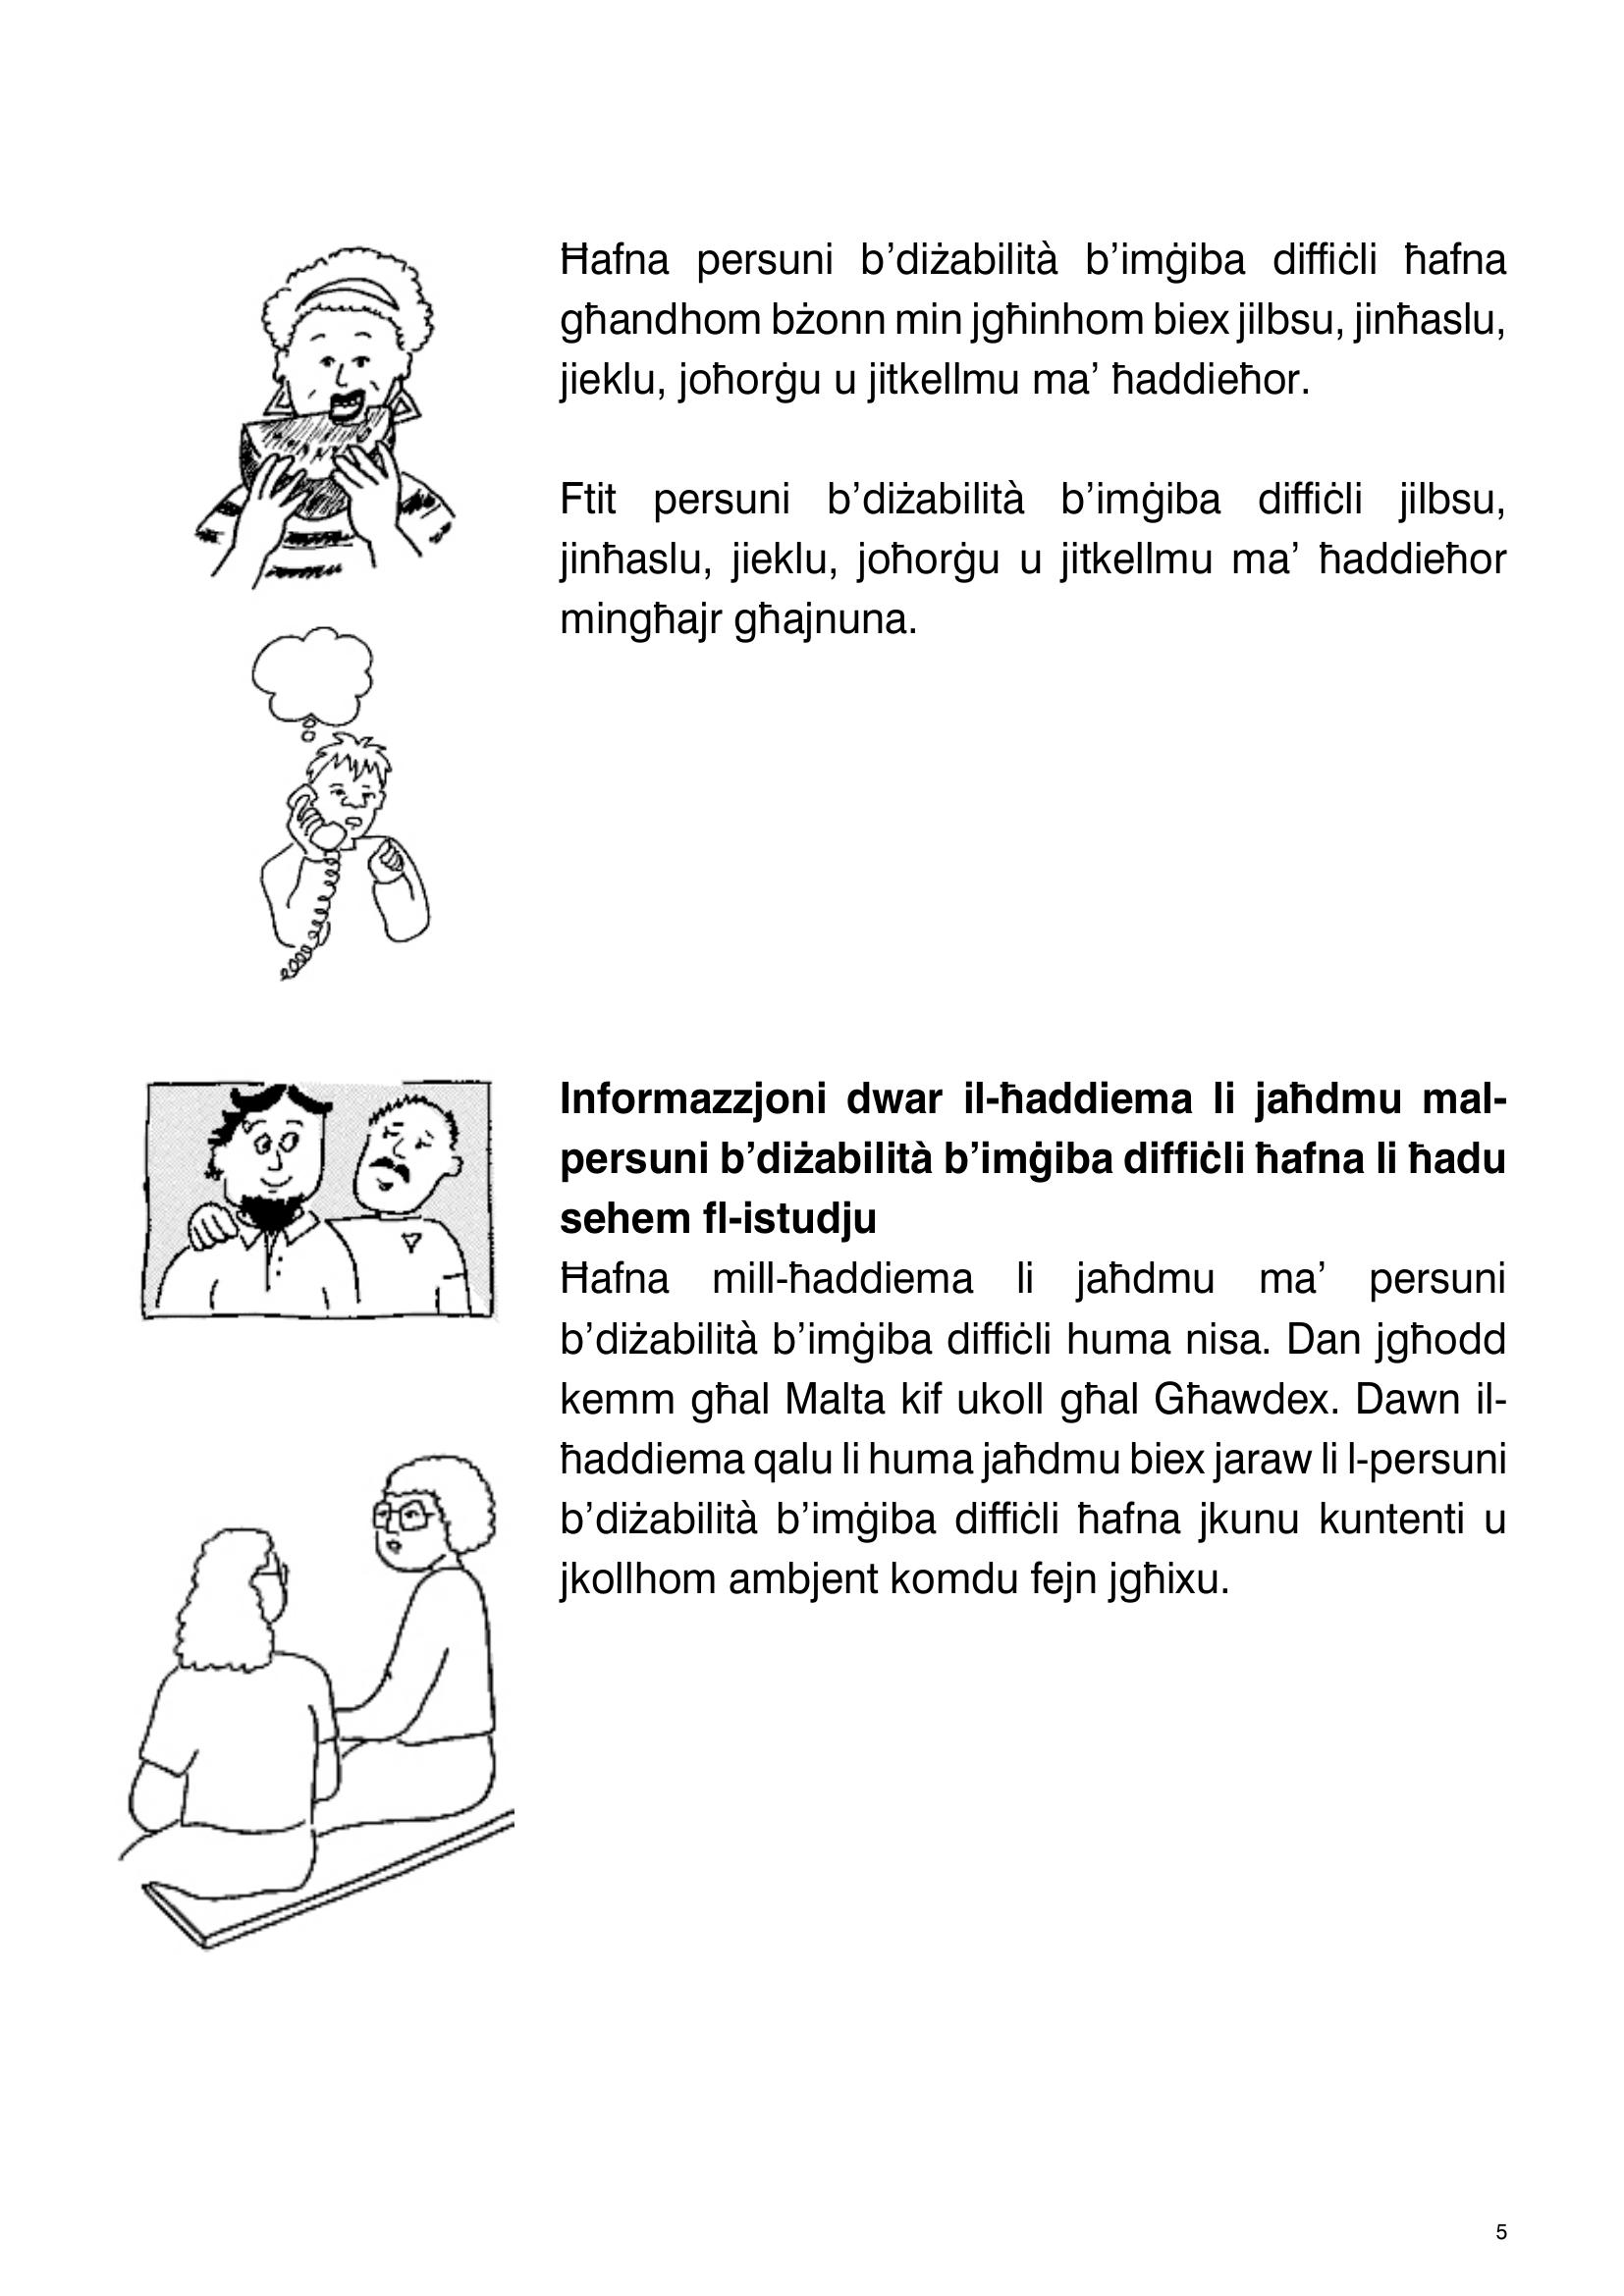text: (541, 221, 1527, 1621)
